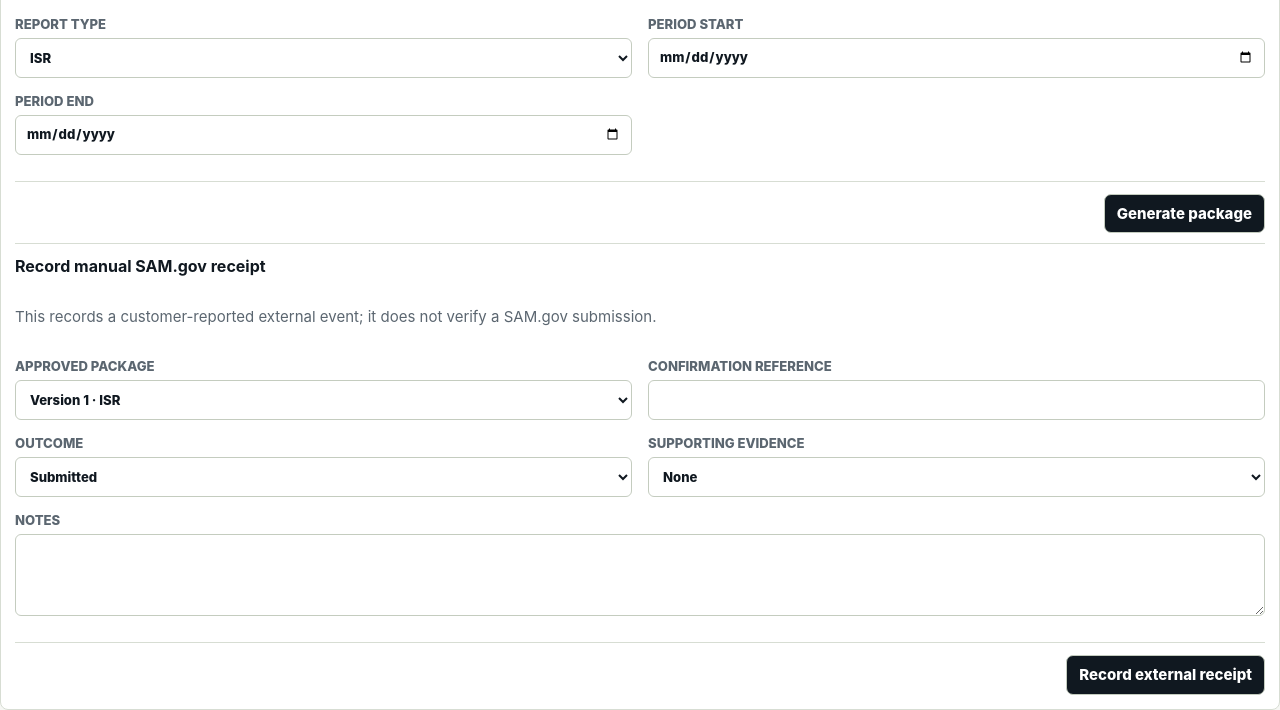
Scenario: SprReportPackagesPanel › records a correction as an append-only receipt linked to the prior receipt
(page scrolled)
Select "Corrected" in the dropdown labelled "Outcome" at (324, 477), box [15,457,632,497]
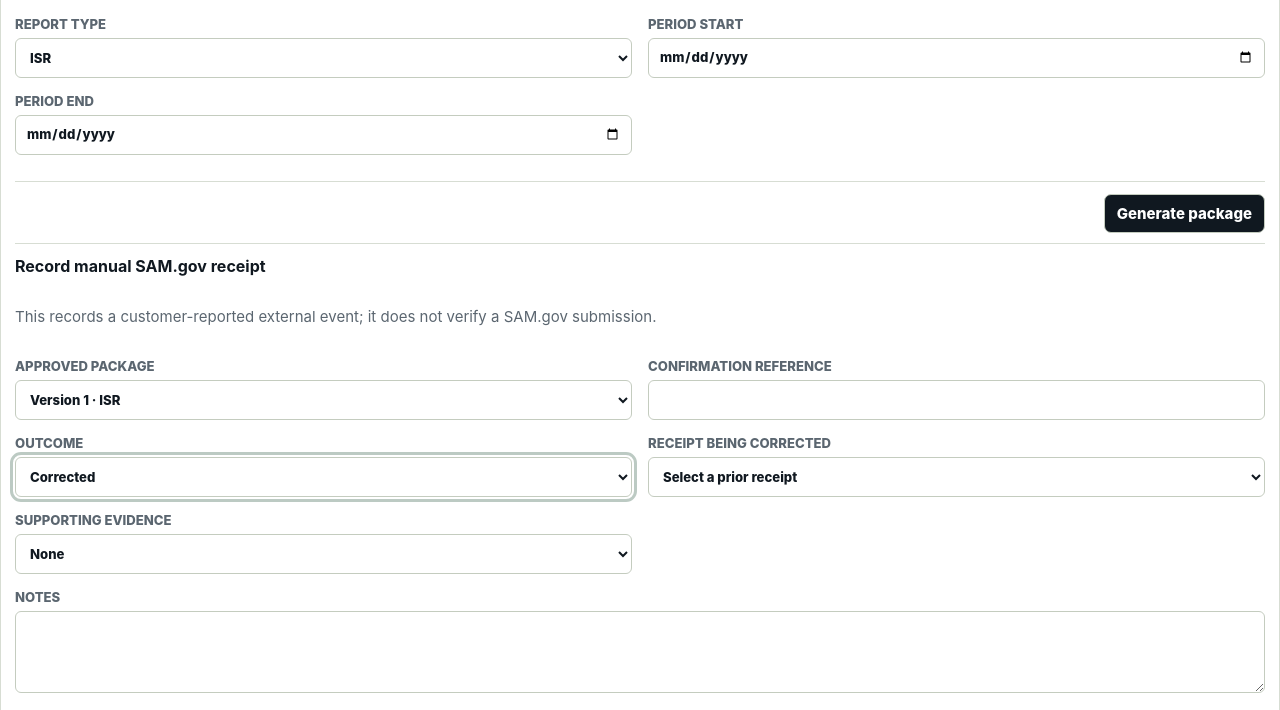
Select "SAM-ORIGINAL · Submitted · 4/2/2026, 12:01:00 PM" in the dropdown labelled "Receipt being corrected" at (956, 477), box [648,457,1265,497]
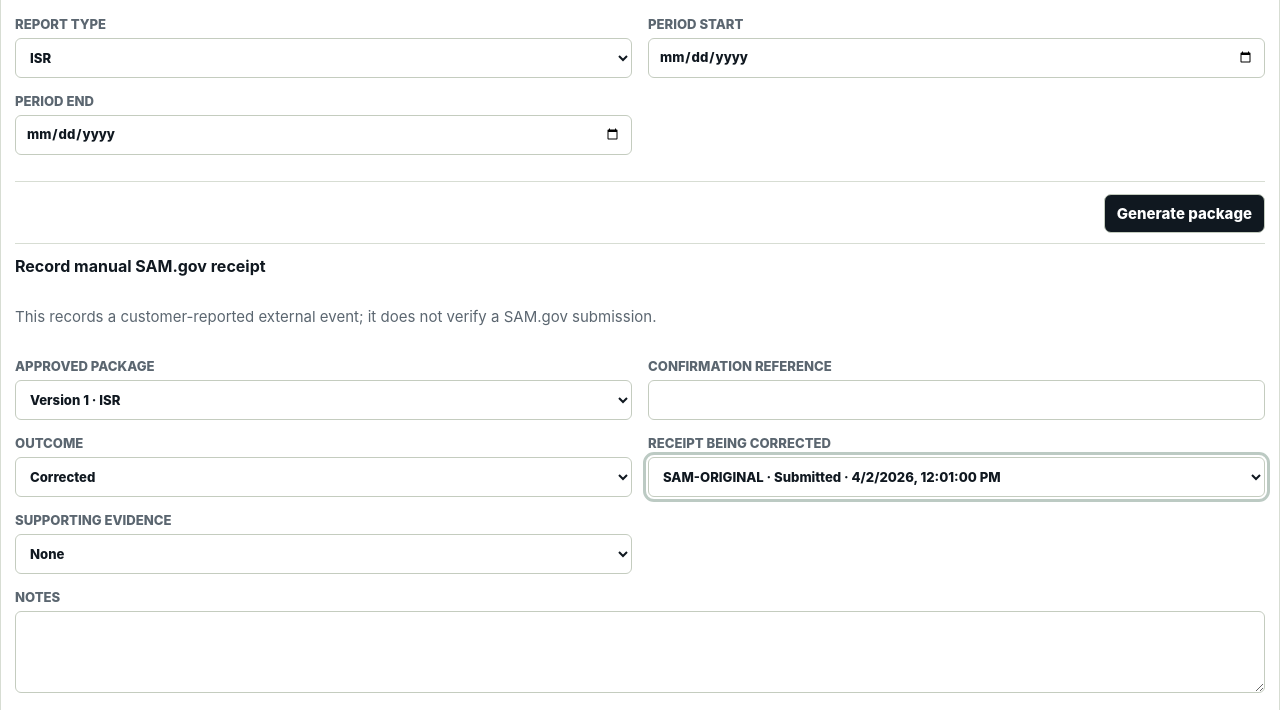
Type "SAM-CORRECTED" into the field labelled "Confirmation reference" at (956, 400), box [648,380,1265,420]
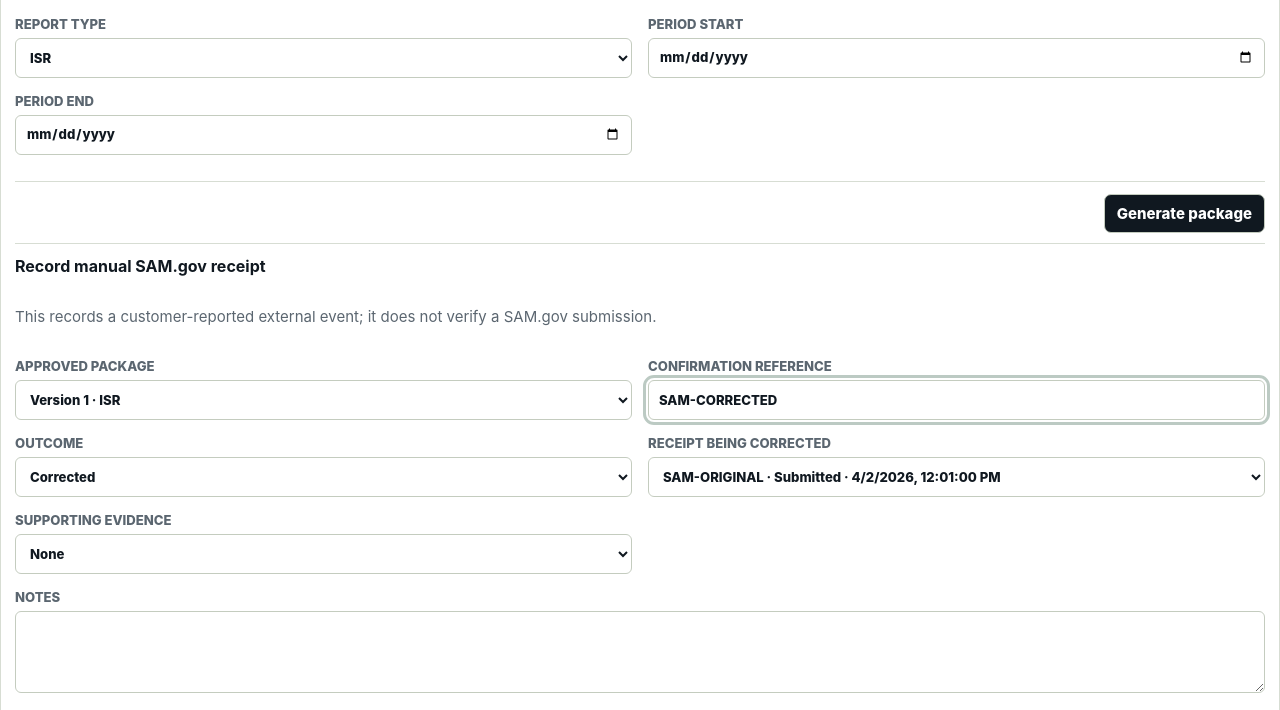
Type "Corrected amount in SAM.gov." into the text box labelled "Notes" at (640, 652), box [15,611,1265,693]
(page scrolled)
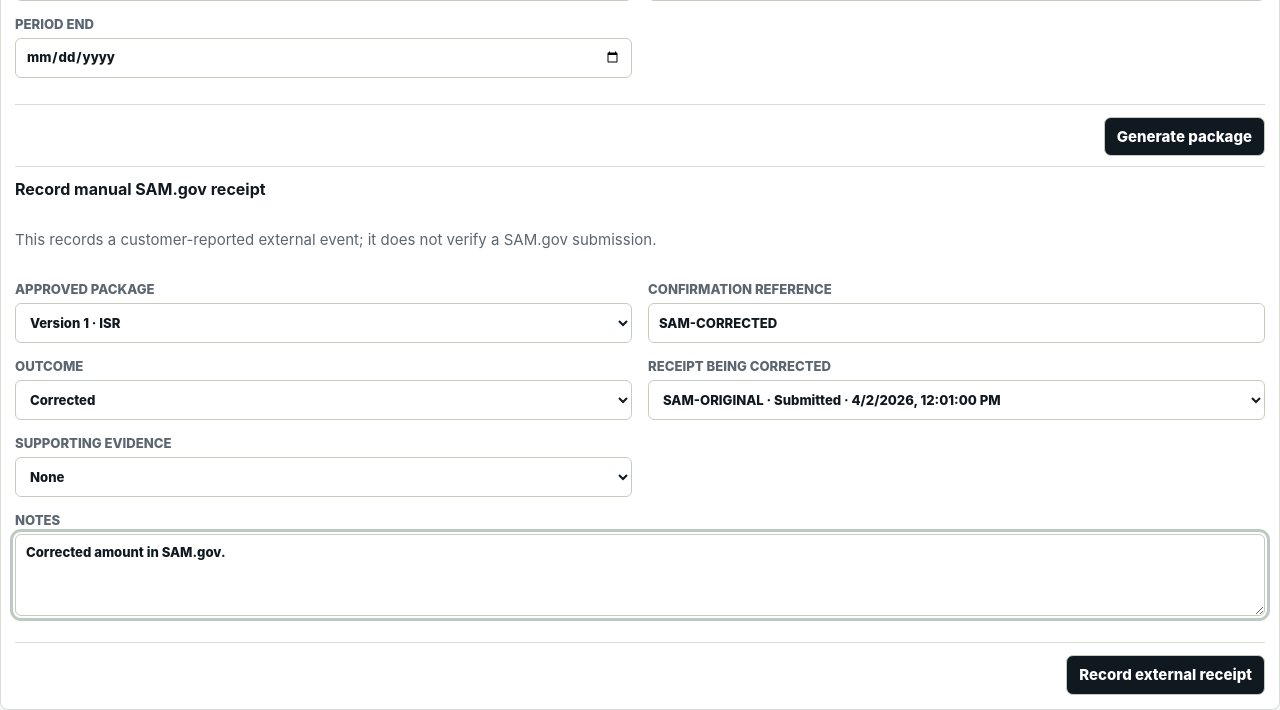
Click the button "Record external receipt" at (1166, 675), box [1066,655,1265,695]
(page scrolled)
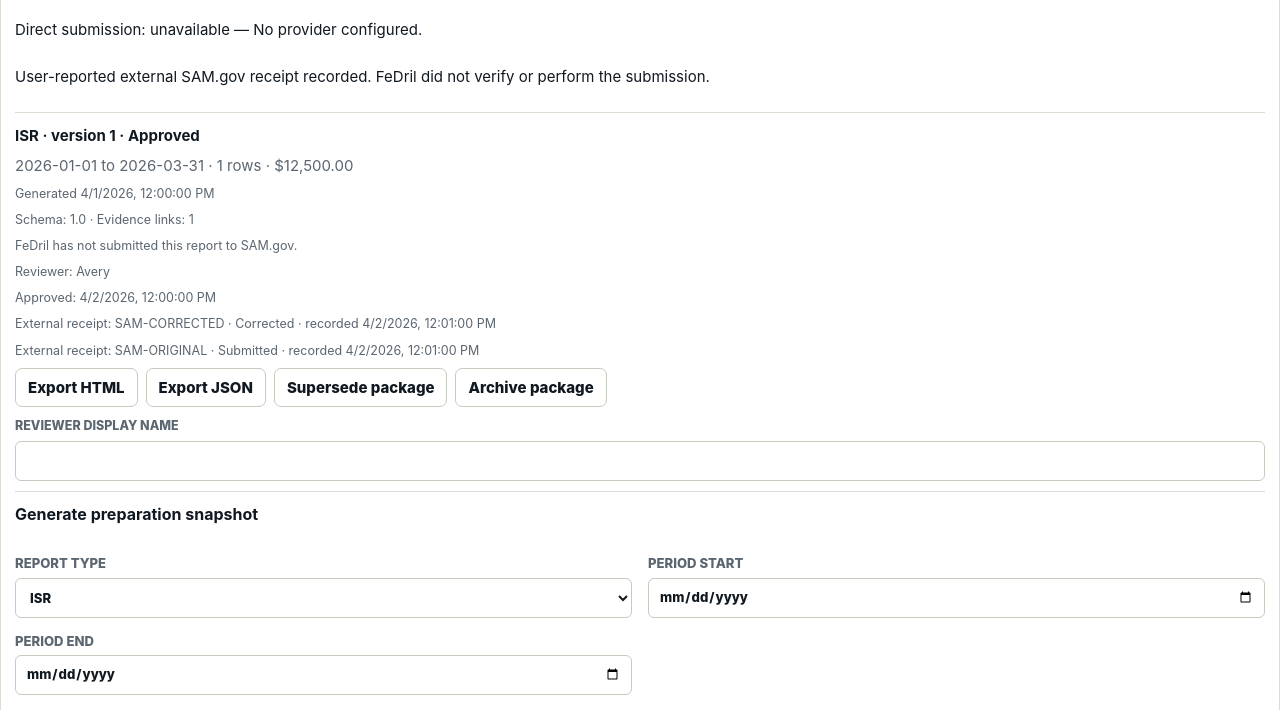
Expected: the text "SAM-ORIGINAL · Submitted" is shown, [15,342,479,358]
Now the text "SAM-CORRECTED · Corrected" is shown, box [15,316,496,331]
